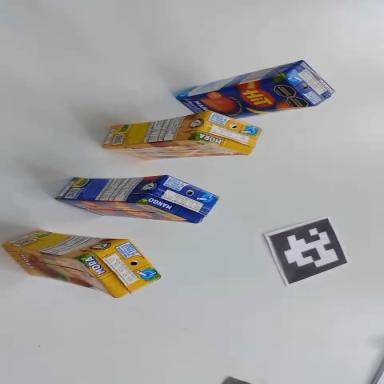HIT-MANGO: (174, 56, 336, 126), (55, 172, 219, 224)
HIT-MORA: (0, 227, 164, 301), (101, 108, 262, 161)
cara_F: (175, 71, 317, 127), (0, 244, 120, 297), (106, 136, 248, 163), (55, 199, 197, 224)
